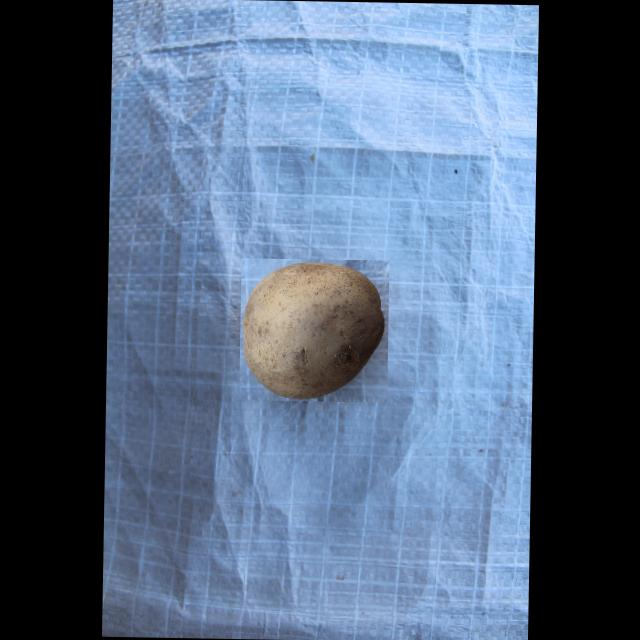Diseased-fungal potato: (239, 256, 389, 402)
